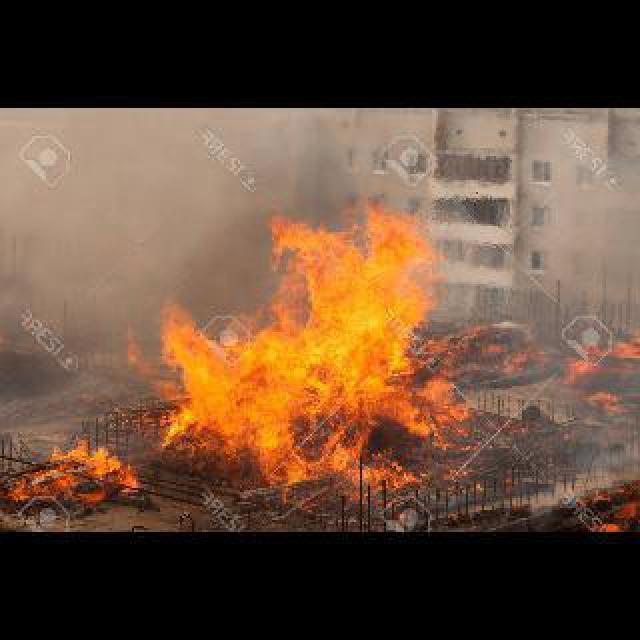Fire: (158, 188, 458, 498), (2, 438, 142, 522), (590, 476, 638, 530)
